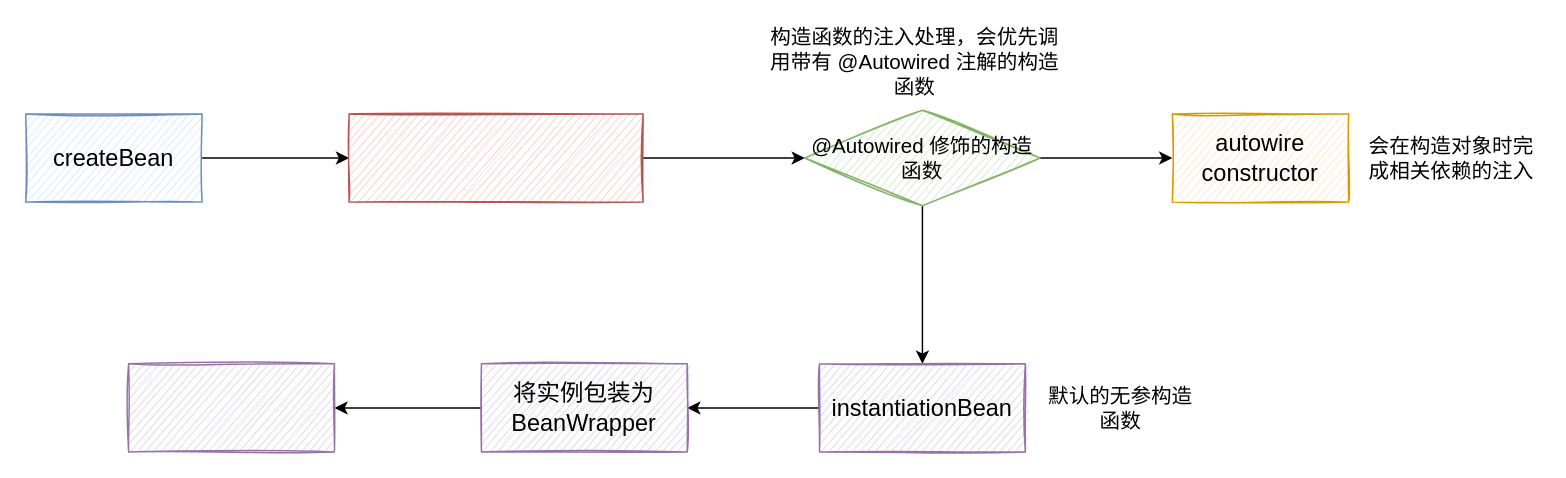
Some shapes in this 1566 by 478 pixel diagram are drawn without their labels. Each missing label, with the centre of its shape:
"createBeanInstance" belongs at (495,157).
"添加相关的工厂方法" belongs at (230,407).
